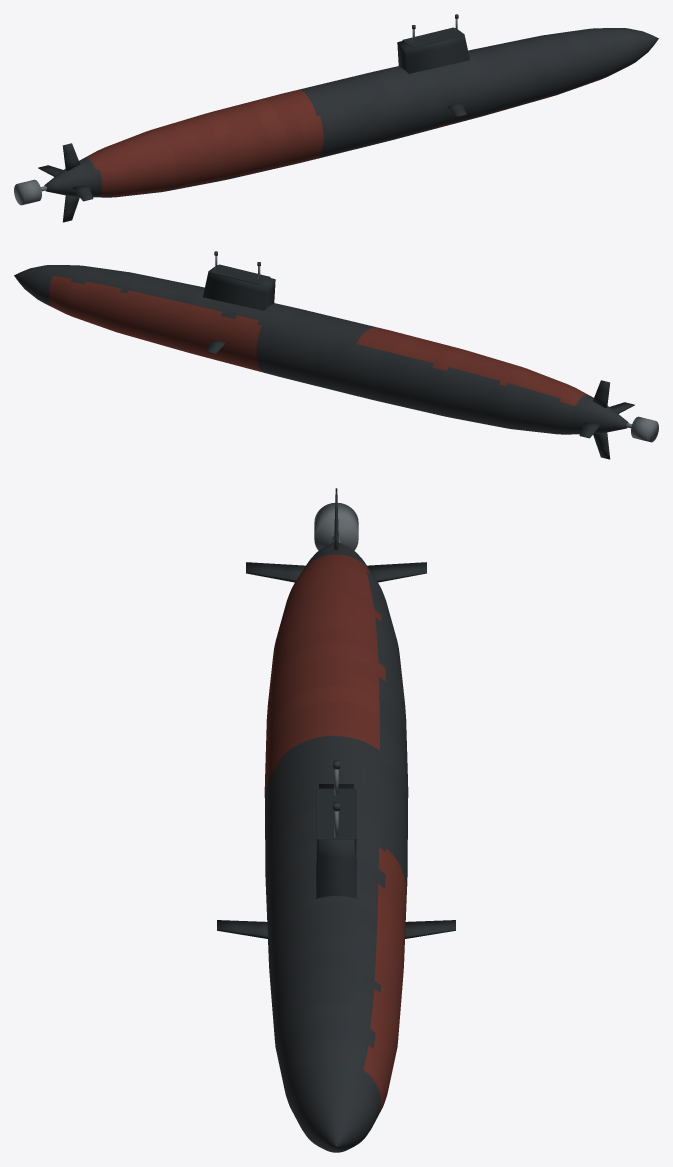
File: CN_SSN_Type093A.glb
3 renders of one model, top to bottom at view 1: azimuth 30°, elevation 25°; view 2: azimuth 150°, elevation 25°; view 3: azimuth 270°, elevation 25°, orthographic. The views are drawn at different scales.
Visible parts, largest first — view 1: CN_SSN_Type093A_LOD0; view 2: CN_SSN_Type093A_LOD0; view 3: CN_SSN_Type093A_LOD0.
Boxes of the visible parts, x1,y1,x2,y2 form: CN_SSN_Type093A_LOD0: [14, 14, 658, 222]; CN_SSN_Type093A_LOD0: [14, 251, 658, 459]; CN_SSN_Type093A_LOD0: [217, 488, 455, 1152].
Bounding box in the file's own units: 113 × 18.81 × 18.32.
6 materials, 1 textured.
